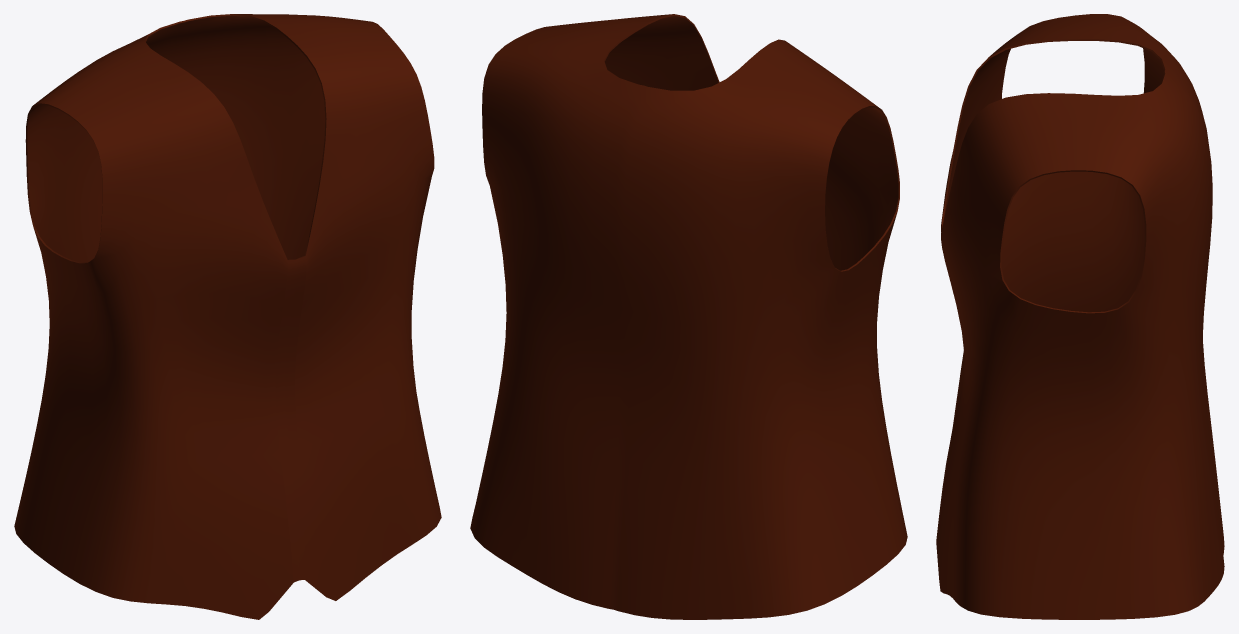
File: Manu_Midpoly1.glb
The picture shows the model from 3 angles, left to right: view 1: azimuth 30°, elevation 25°; view 2: azimuth 150°, elevation 25°; view 3: azimuth 270°, elevation 25°; orthographic projection. The views are drawn at different scales.
Visible parts, largest first — view 1: Manu_Body.001; view 2: Manu_Body.001; view 3: Manu_Body.001.
Part boxes in pixels (<box>): Manu_Body.001: <box>14,14,441,619</box>; Manu_Body.001: <box>470,14,907,619</box>; Manu_Body.001: <box>936,14,1224,619</box>.
Size of the model in its own units: 2.36 by 3.22 by 1.66.
